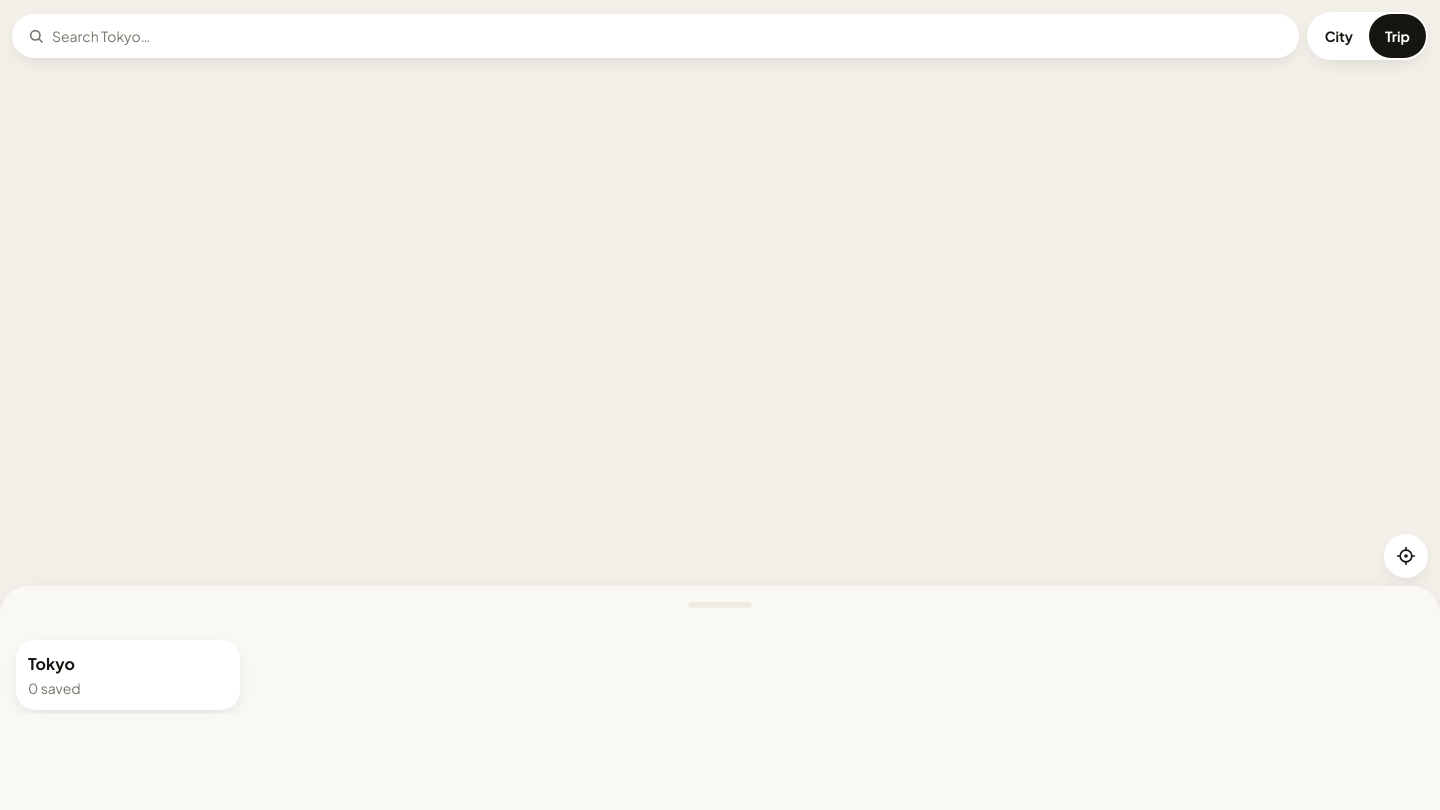
Test: when it is refused › says a timeout is unavailable rather than refused
This screenshot has width=1440, height=810.
What coordinates should you click on to do the following:
click the button "City"
I would click on:
 (1339, 36)
Its box is left=1309, top=14, right=1369, bottom=58.
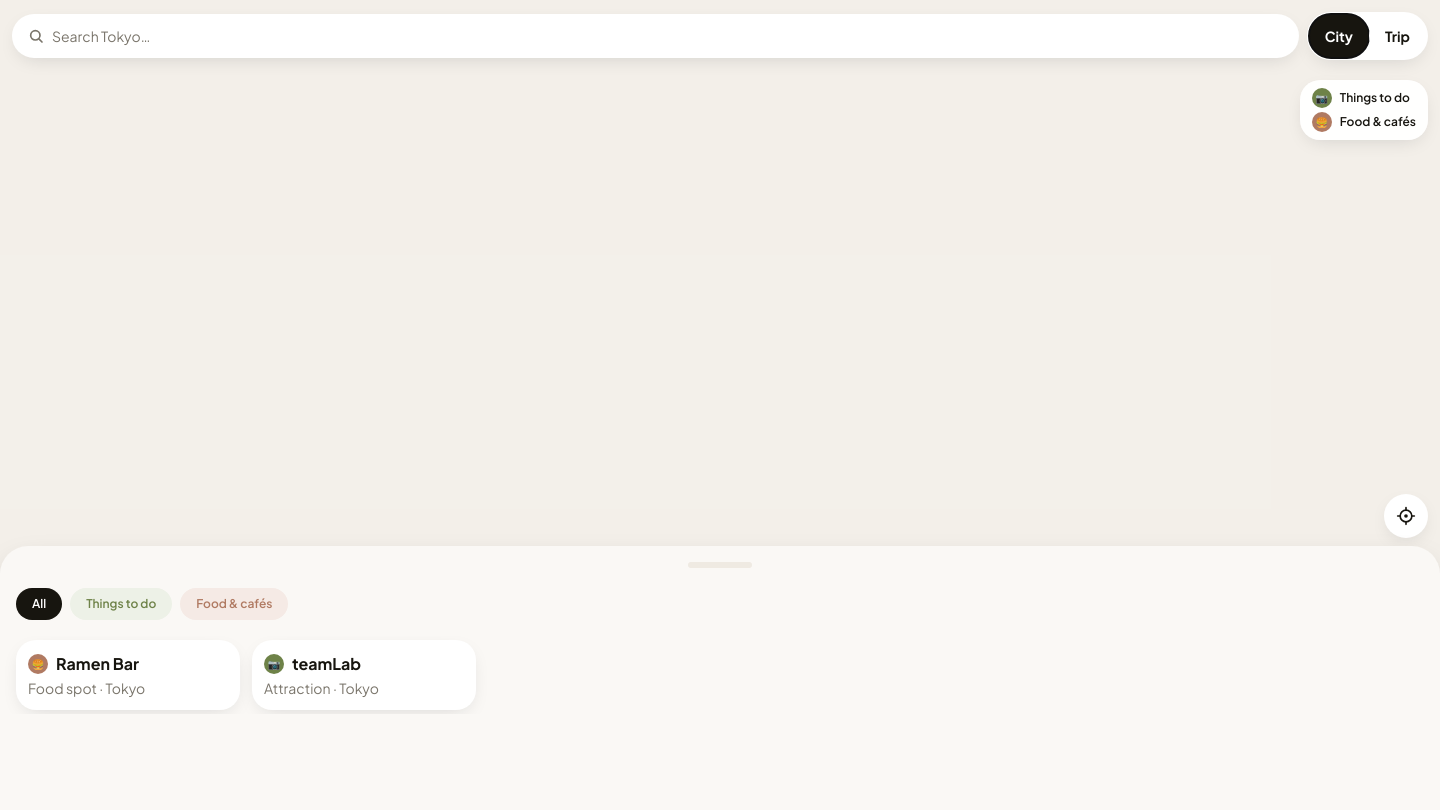
What coordinates should you click on to do the following:
click the button named "Show my position"
I would click on:
 (1406, 516)
Its box is left=1384, top=494, right=1428, bottom=538.
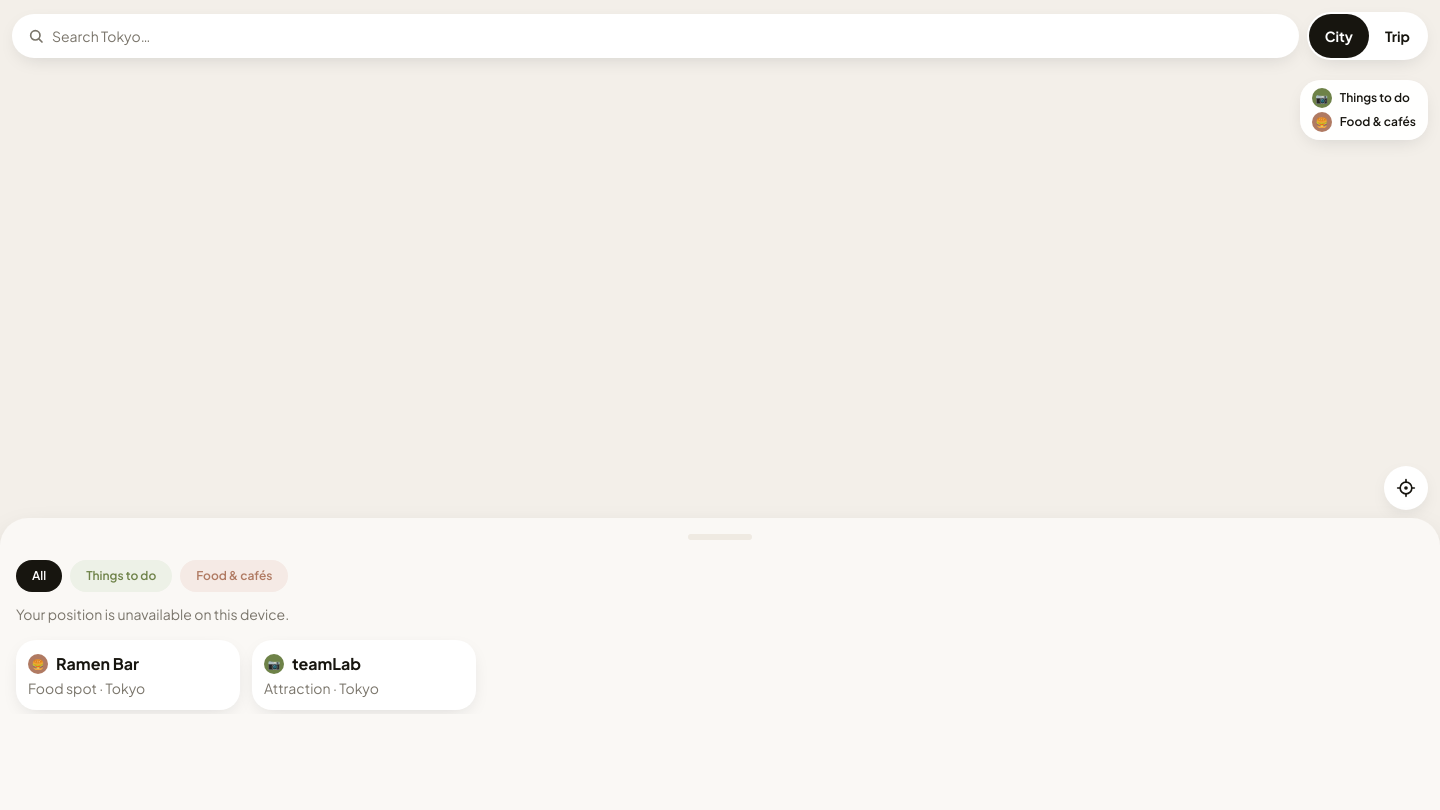
Expected: the text "Your position is unavailable on this device." is shown, left=16, top=605, right=289, bottom=623
